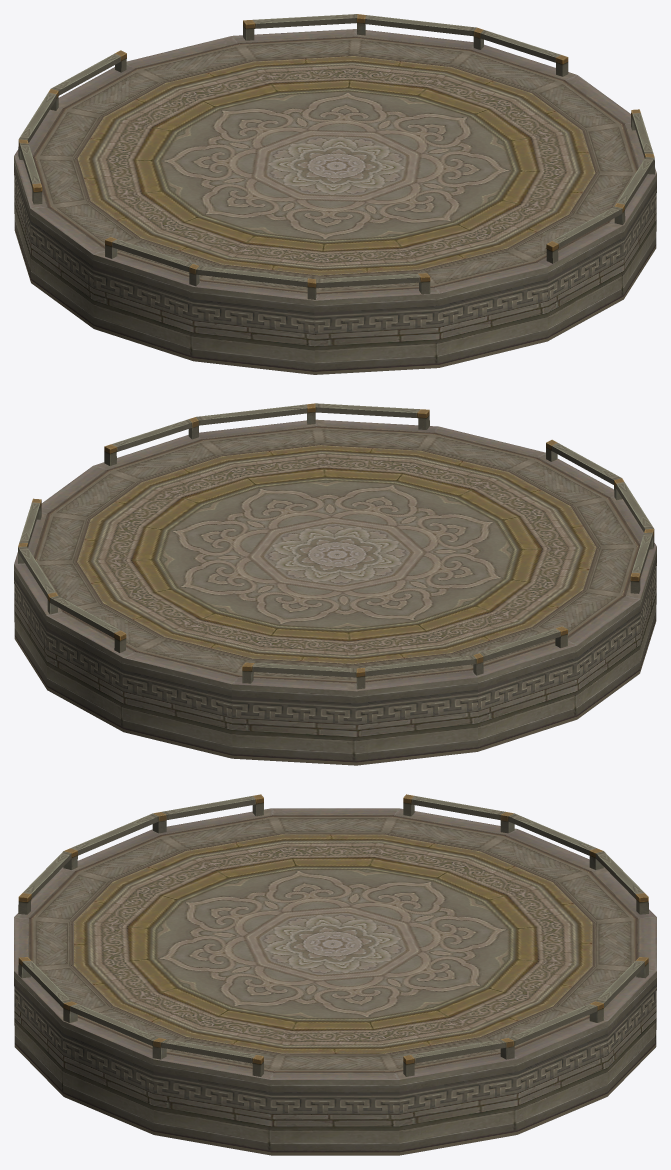
The model's file is s7_qianchongta_neibu_jianzhu001_yuantai.FBX.
3 views of the same model, one above another, from view 1: azimuth 30°, elevation 25°; view 2: azimuth 150°, elevation 25°; view 3: azimuth 270°, elevation 25° (orthographic).
Visible parts, largest first — view 1: s7_qianchongta_neibu_jianzhu001; view 2: s7_qianchongta_neibu_jianzhu001; view 3: s7_qianchongta_neibu_jianzhu001.
Part boxes in pixels (left/top/right/bottom): s7_qianchongta_neibu_jianzhu001: left=14, top=14, right=656, bottom=374; s7_qianchongta_neibu_jianzhu001: left=14, top=403, right=656, bottom=765; s7_qianchongta_neibu_jianzhu001: left=14, top=794, right=656, bottom=1155.
Bounding box in the file's own units: 33.56 × 5.36 × 33.56.
